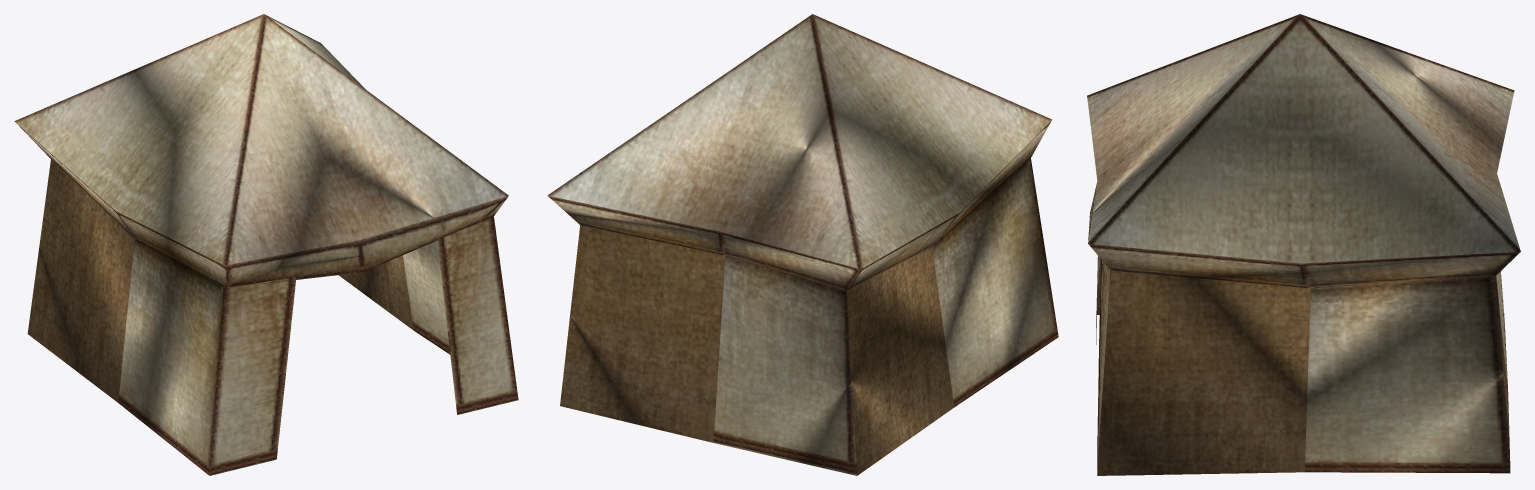
File: b_general_obj_04.fbx
The picture shows the model from 3 angles, left to right: view 1: azimuth 30°, elevation 25°; view 2: azimuth 150°, elevation 25°; view 3: azimuth 270°, elevation 25°; orthographic projection. The views are drawn at different scales.
Parts seen in each view (by area): view 1: Mesh01; view 2: Mesh01; view 3: Mesh01.
Boxes of the visible parts, x1,y1,x2,y2 form: Mesh01: (14,14,518,475); Mesh01: (547,14,1058,475); Mesh01: (1087,14,1520,475).
Size of the model in its own units: 4.71 by 5.17 by 5.35.
